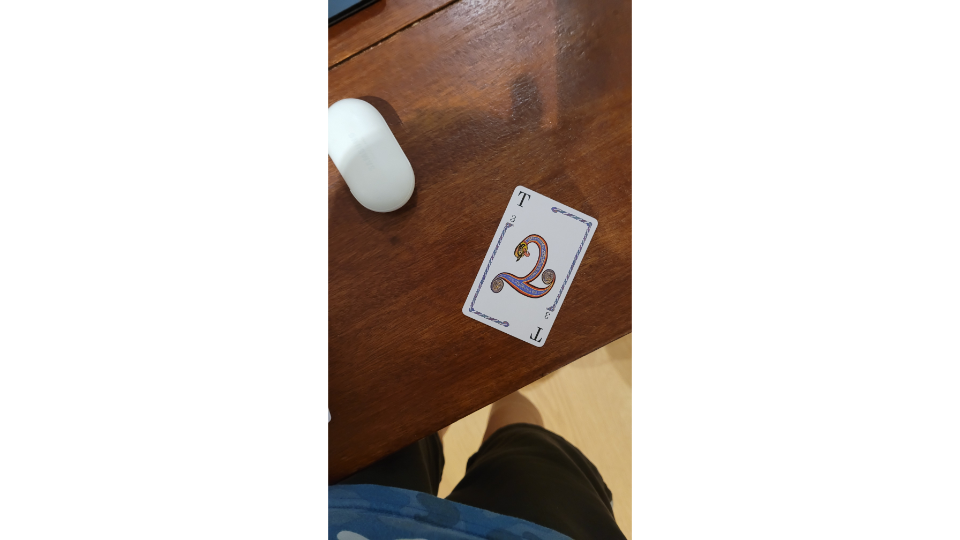T: (458, 182, 602, 351)
